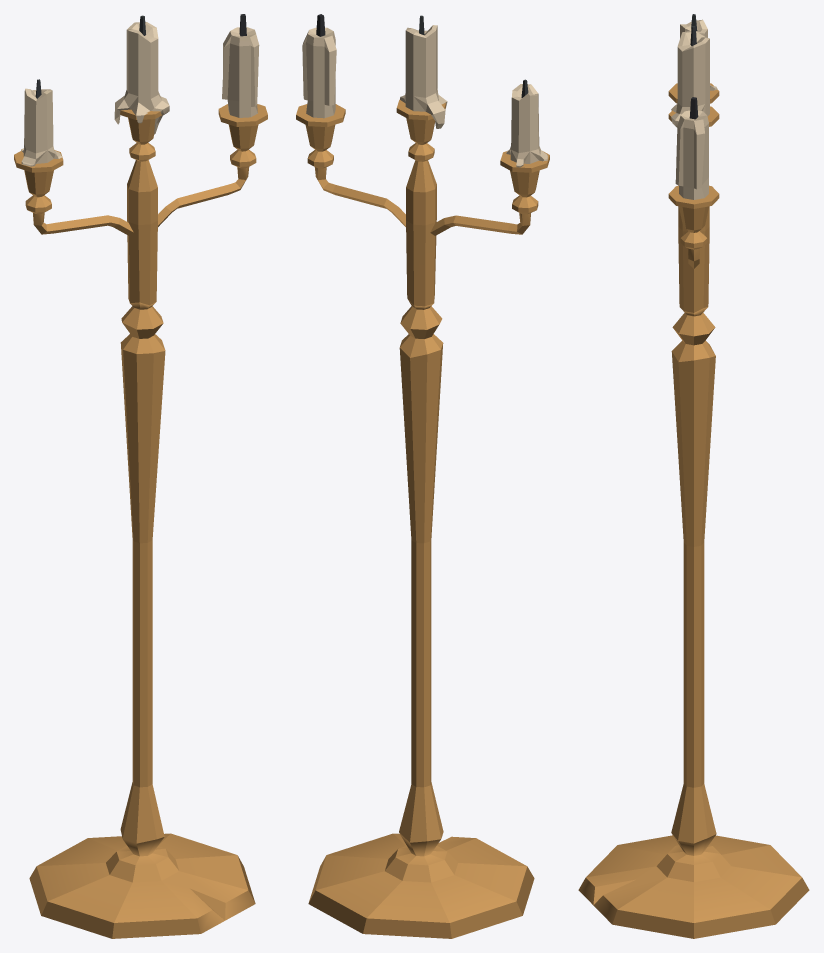
The model's file is kingdom_SM_Item_Candlestick_06.gltf.
The picture shows the model from 3 angles, left to right: view 1: azimuth 30°, elevation 25°; view 2: azimuth 150°, elevation 25°; view 3: azimuth 270°, elevation 25°; orthographic projection.
Parts seen in each view (by area): view 1: SM_Item_Candlestick_06; view 2: SM_Item_Candlestick_06; view 3: SM_Item_Candlestick_06.
Boxes of the visible parts, x1,y1,x2,y2 form: SM_Item_Candlestick_06: (14, 14, 267, 938); SM_Item_Candlestick_06: (296, 14, 549, 938); SM_Item_Candlestick_06: (578, 14, 809, 938).
Bounding box in the file's own units: 0.4602 × 1.55 × 0.3752.
1 material, 1 textured.
